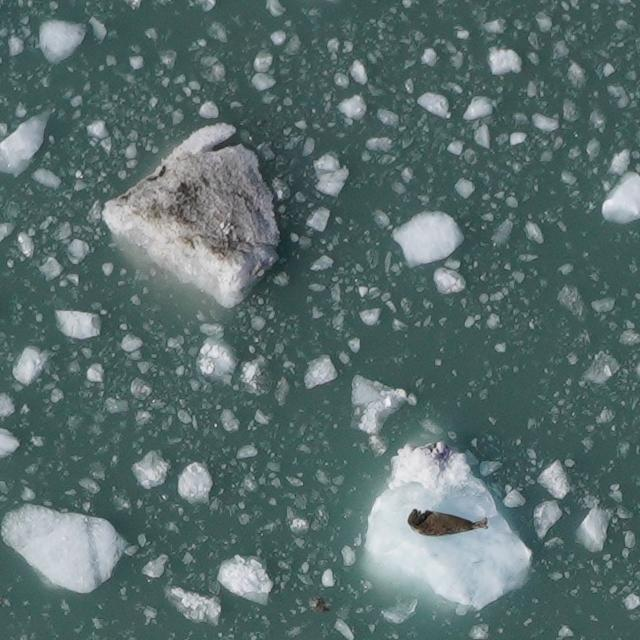seal: (404, 504, 494, 539)
